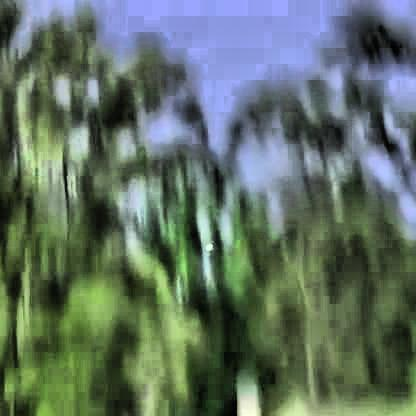golfball: (202, 241, 212, 251)
